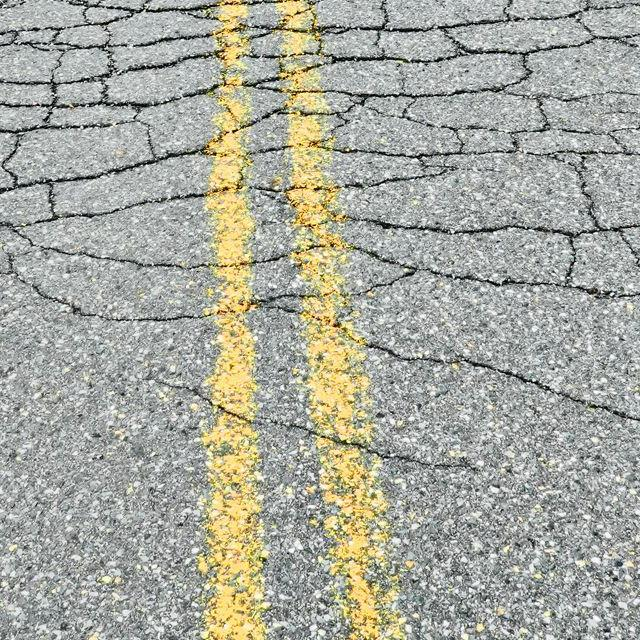retak_kulit_buaya: (0, 0, 640, 272)
